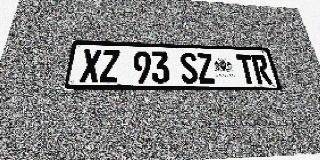3: (151, 51, 170, 83)
9: (133, 51, 151, 83)
R: (251, 55, 273, 84)
S: (179, 52, 199, 83)
T: (236, 54, 257, 84)
X: (79, 49, 102, 83)
Z: (99, 50, 120, 83), (196, 53, 216, 84)
